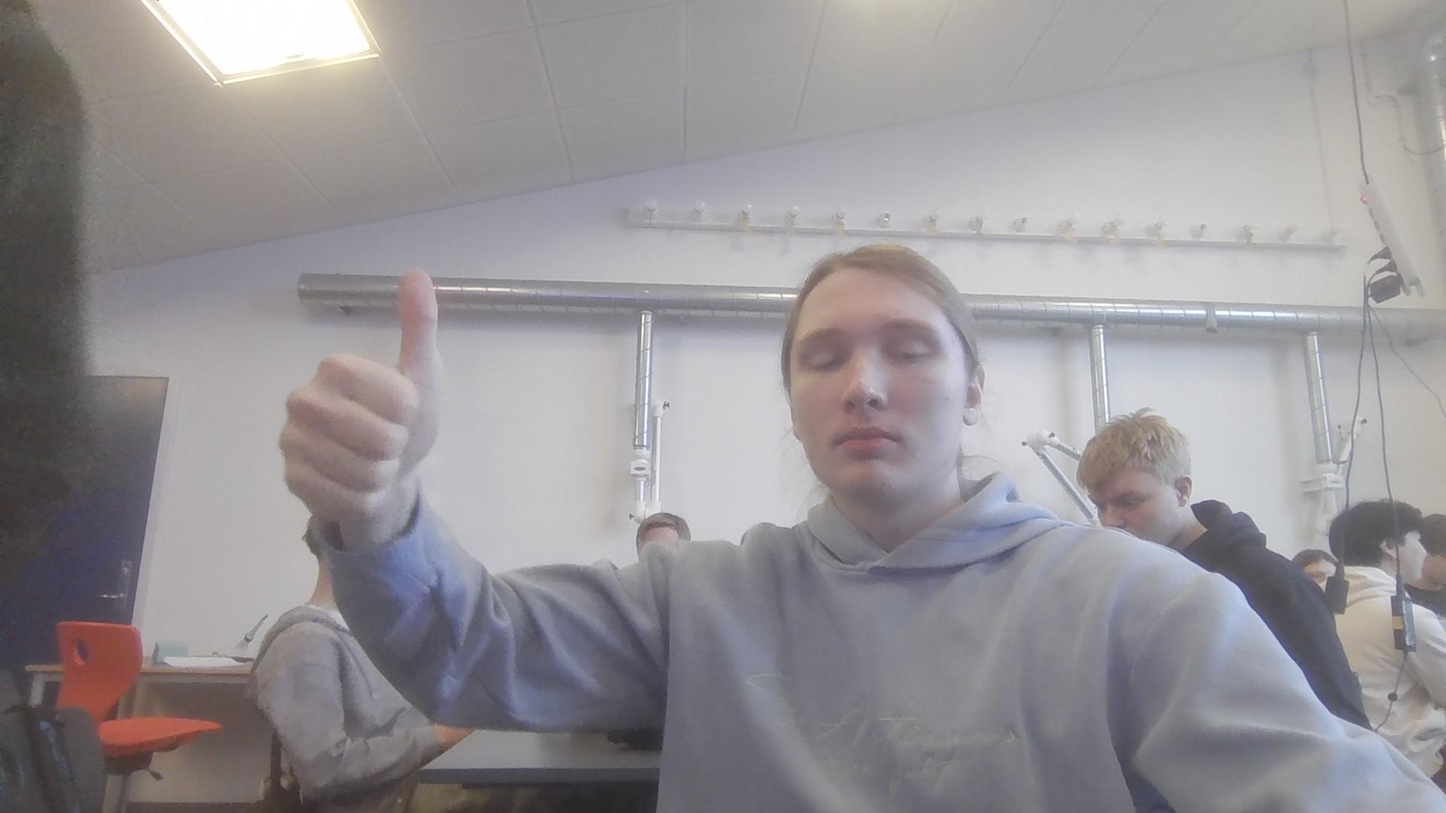thumbs up: (277, 260, 456, 543)
